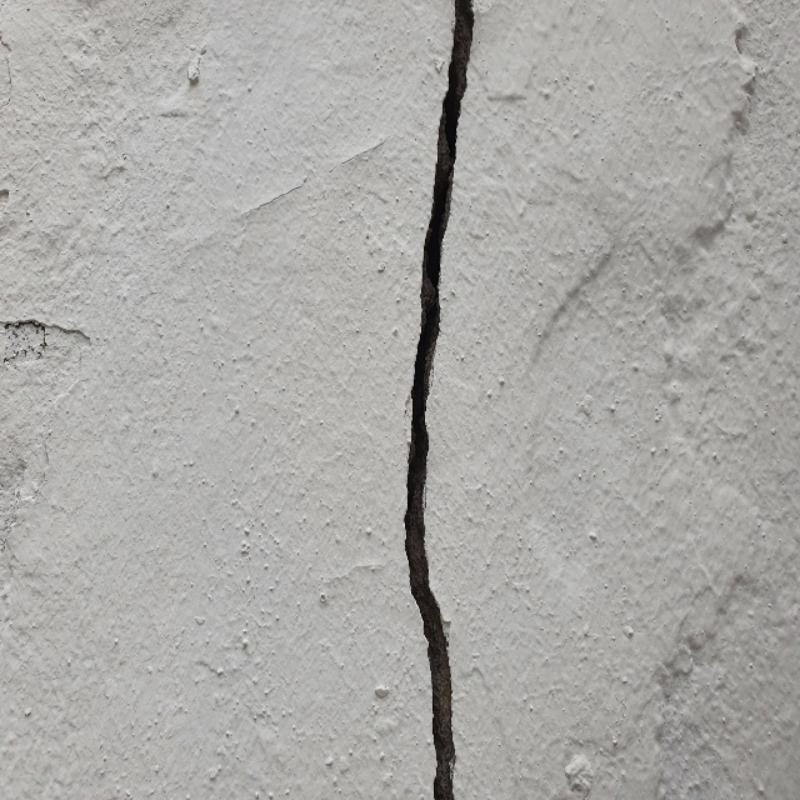pothole: (402, 1, 477, 799)
